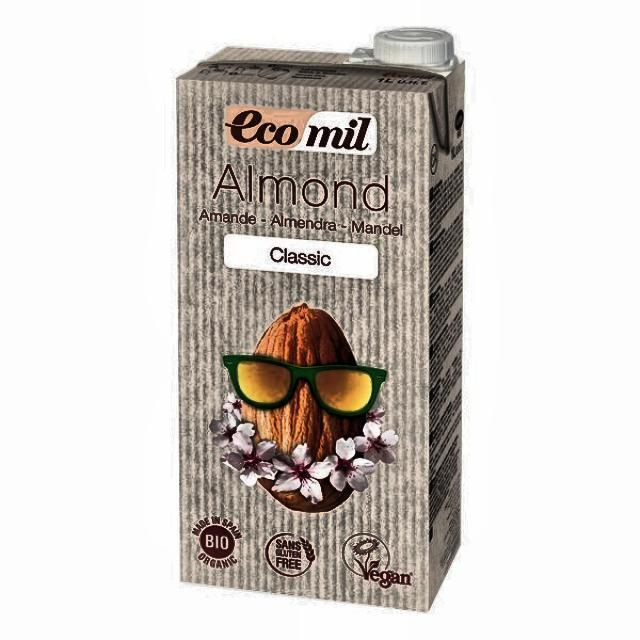cardboard: (174, 42, 465, 612)
